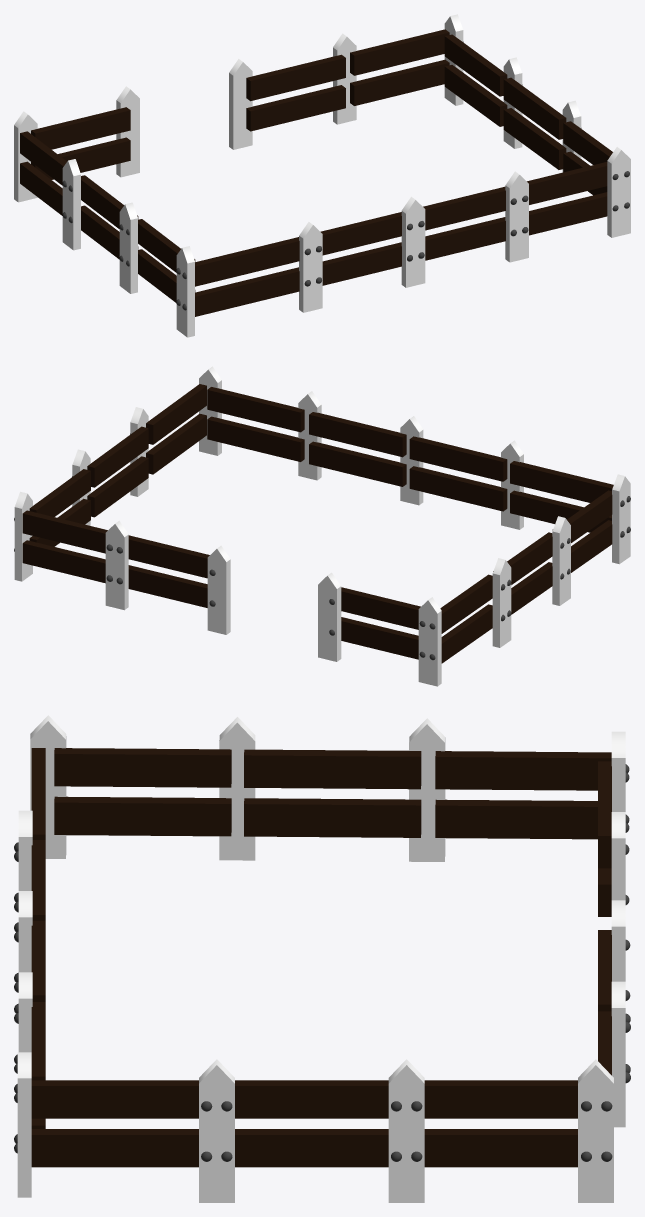
The model's file is padok4.fbx.
3 views of the same model, one above another, from view 1: azimuth 30°, elevation 25°; view 2: azimuth 150°, elevation 25°; view 3: azimuth 270°, elevation 25° (orthographic). The views are drawn at different scales.
Parts seen in each view (by area): view 1: padok 4(1) (×39); view 2: padok 4(1) (×39); view 3: padok 4(1) (×34).
Part boxes in pixels (x1,y1,x2,y2): padok 4(1) (×39): [14, 14, 630, 337]; padok 4(1) (×39): [14, 366, 630, 686]; padok 4(1) (×34): [17, 715, 625, 1202].
Size of the model in its own units: 111 by 20.15 by 81.67.
